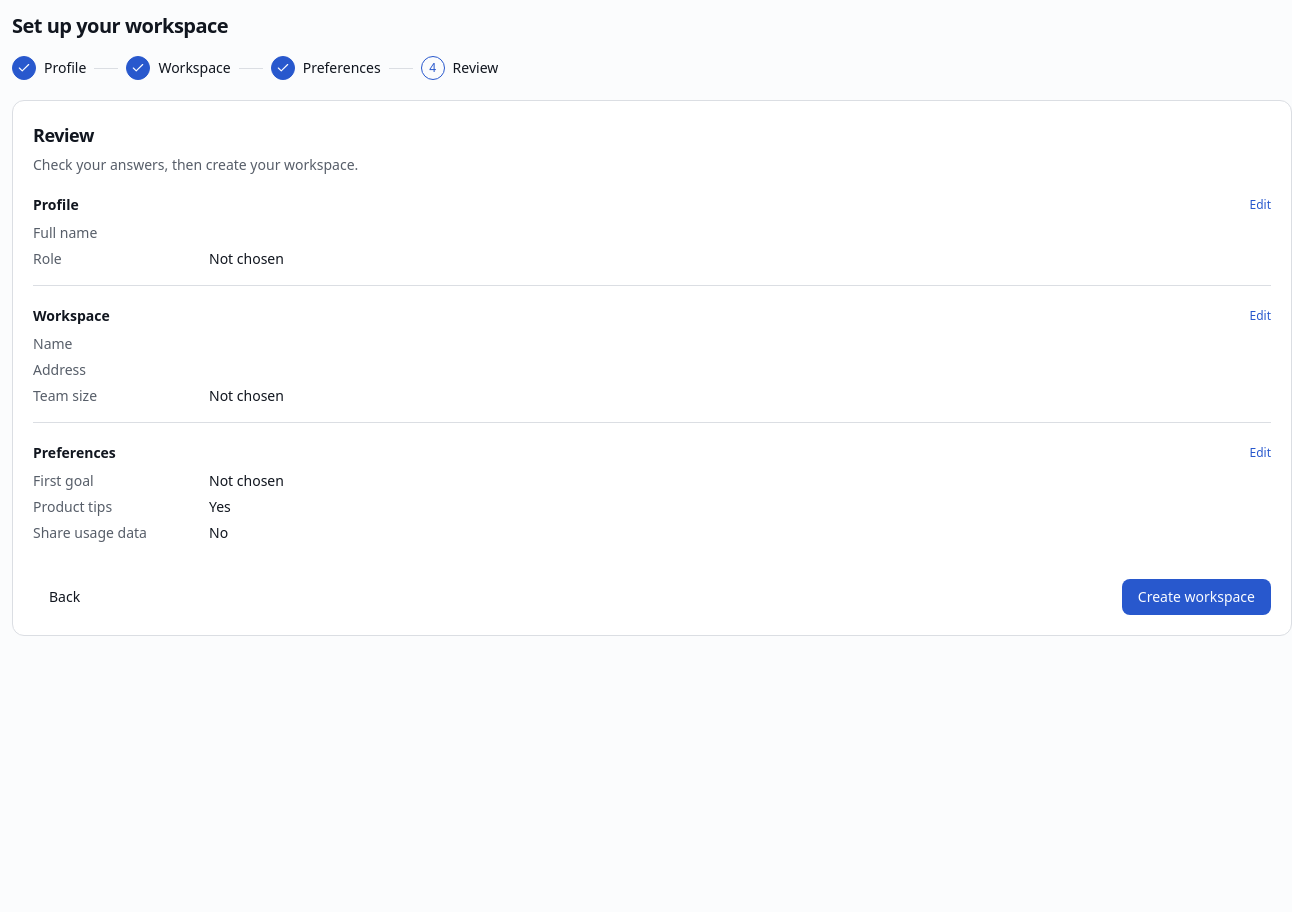
Test case: MultiStepOnboarding › review › says which steps to revisit when earlier answers are missing
The width and height of the screenshot is (1292, 912).
Click the button "Create workspace" at coordinates (1196, 597), box [1122,579,1271,615]
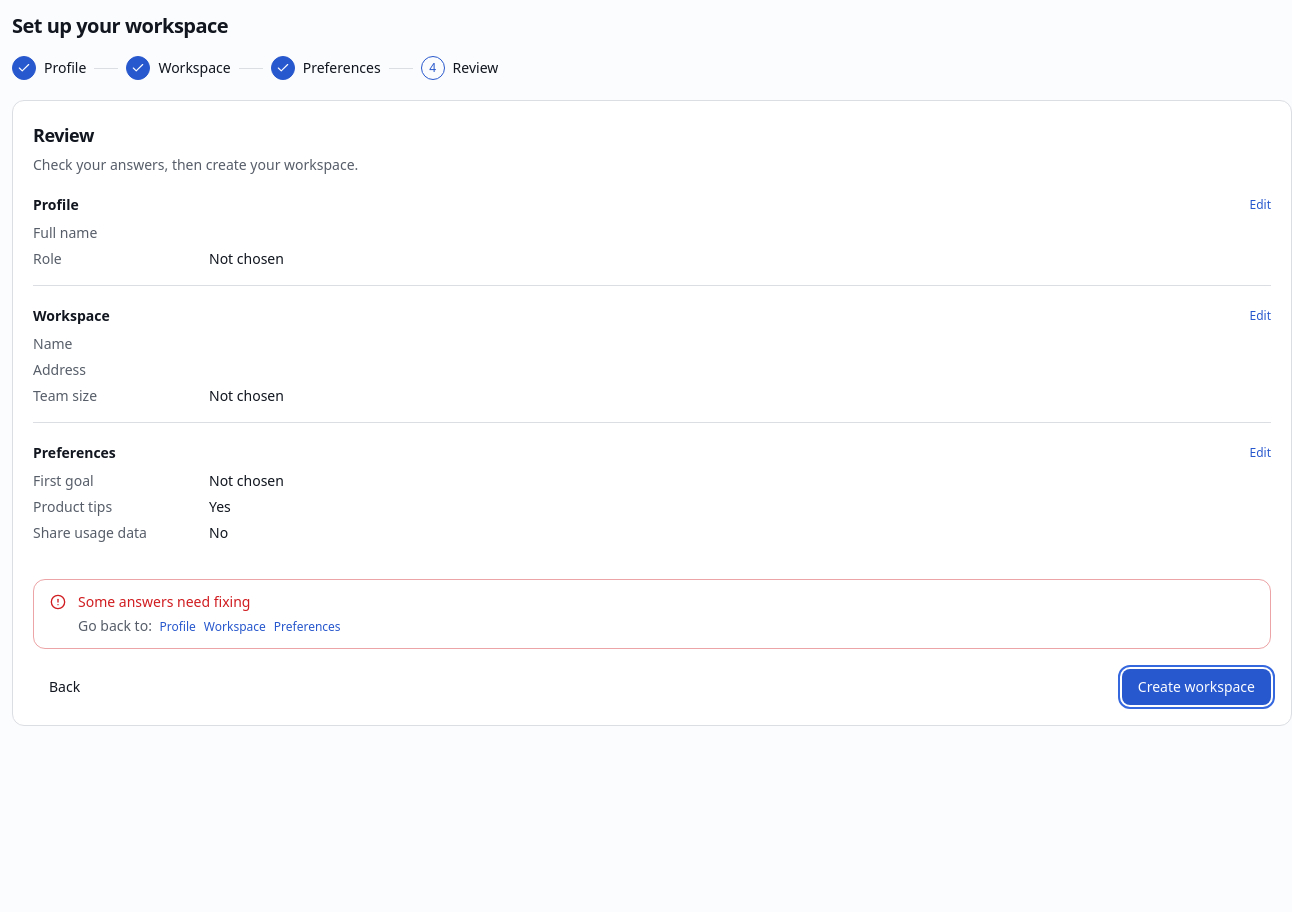
Expected: the message shows "Some answers need fixing", [78,592,250,611]
Click the button "Workspace" in the row of "Go back to:" at coordinates (235, 627), box [200,619,270,635]
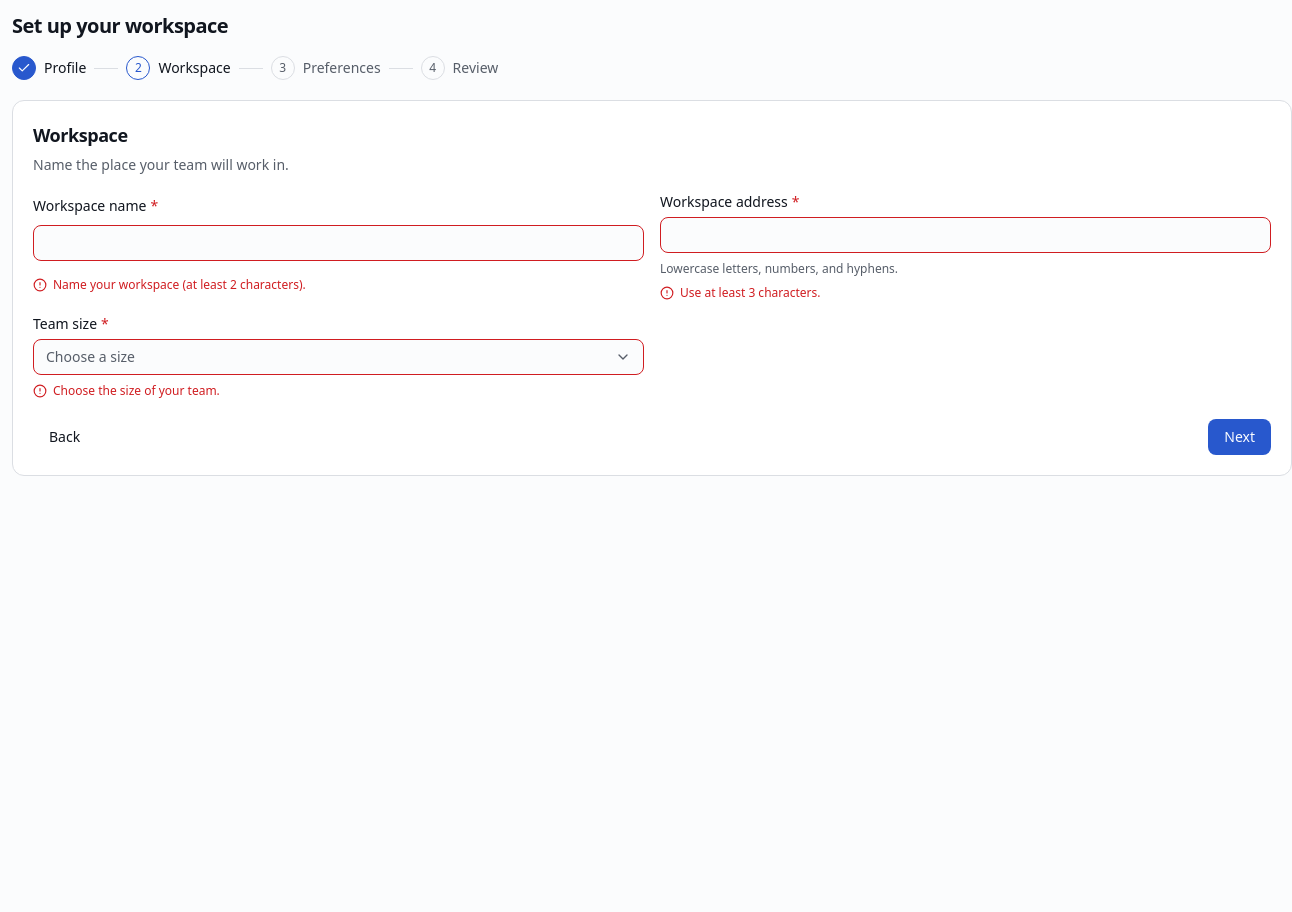
Expected: the heading "Workspace" is shown, [33,123,128,147]
